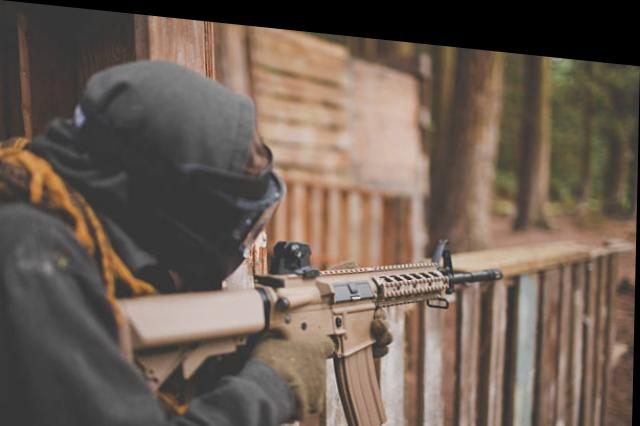other: (10, 34, 326, 424)
